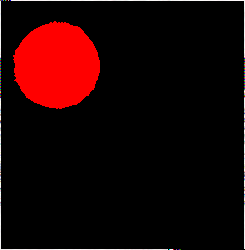stamp: (12, 20, 99, 111)
